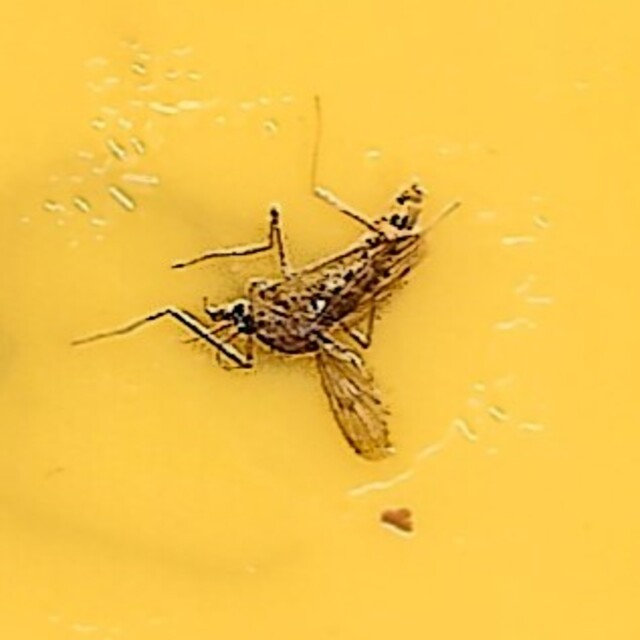Nematocera: (202, 180, 438, 460)
